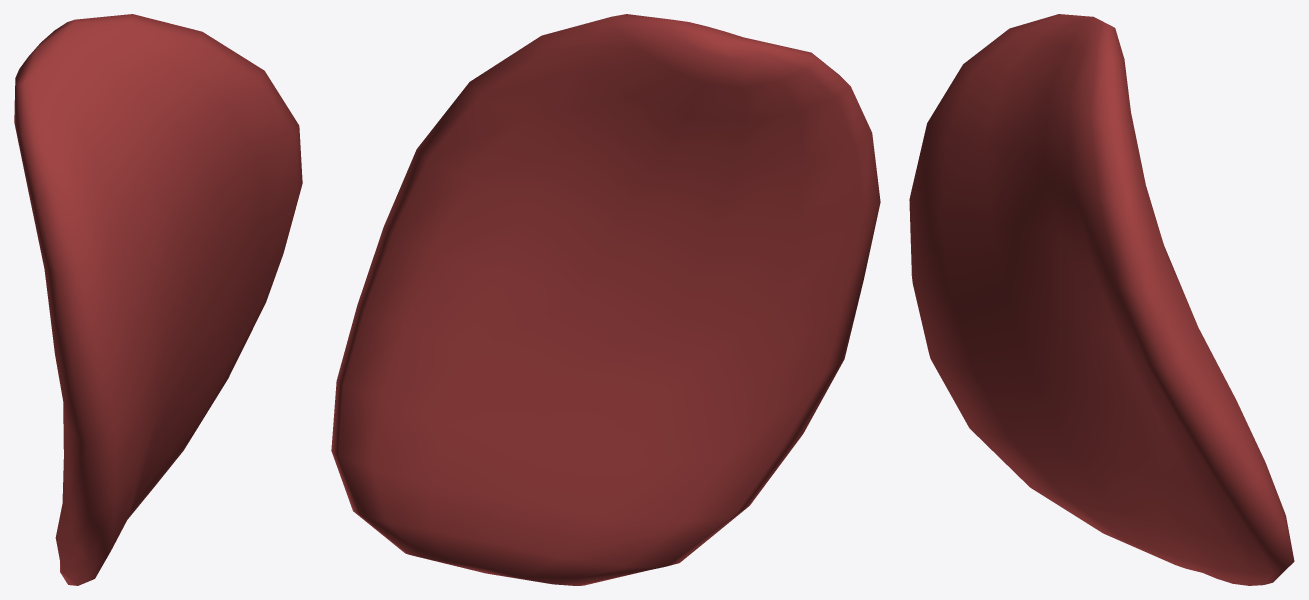
File: sciatic-bursa-of-obturator-internus-l.glb
3 renders of one model, left to right at view 1: azimuth 30°, elevation 25°; view 2: azimuth 150°, elevation 25°; view 3: azimuth 270°, elevation 25°, orthographic. The views are drawn at different scales.
Parts seen in each view (by area): view 1: Sciatic bursa of obturator internus.l; view 2: Sciatic bursa of obturator internus.l; view 3: Sciatic bursa of obturator internus.l.
Boxes of the visible parts, x1,y1,x2,y2 form: Sciatic bursa of obturator internus.l: [14, 14, 302, 585]; Sciatic bursa of obturator internus.l: [331, 14, 880, 585]; Sciatic bursa of obturator internus.l: [909, 14, 1294, 585].
Bounding box in the file's own units: 0.014 × 0.0199 × 0.0135.
